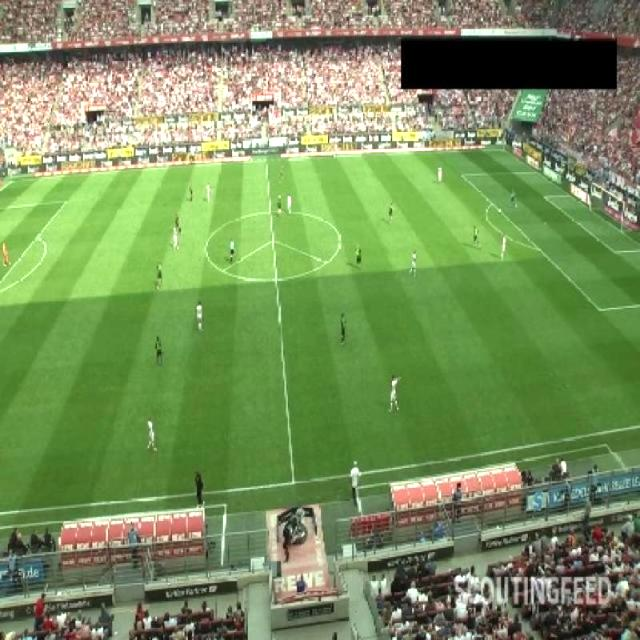bigarea_bottom_inner: (592, 298, 608, 317)
bigarea_top_inner: (60, 192, 74, 208), (455, 168, 470, 181)
bigarea_top_outter: (530, 163, 545, 177)
bottom_arc_area_intersection: (532, 240, 546, 257)
corner: (8, 171, 24, 184), (494, 141, 509, 154)
halfcircle_bottom: (264, 266, 284, 291)
halfcircle_top: (262, 202, 278, 220)
midline_bottom_intersection: (278, 466, 305, 494)
midline_top_intersection: (260, 154, 272, 168)
smallarea_bottom_inner: (608, 242, 624, 260)
smallarea_top_inner: (538, 188, 553, 203)
smallarea_top_outter: (564, 186, 579, 200)
top_arc_area_intersection: (30, 226, 45, 242), (484, 194, 498, 208)
